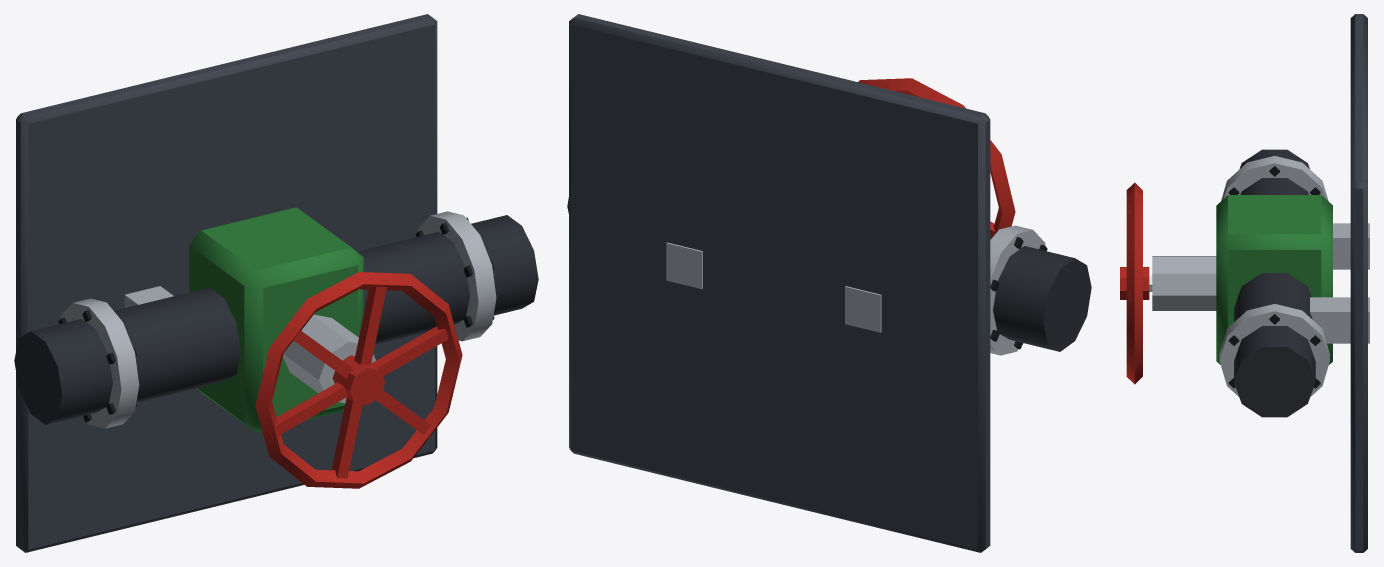
File: valve_gate_valve_wheel.glb
The picture shows the model from 3 angles, left to right: view 1: azimuth 30°, elevation 25°; view 2: azimuth 150°, elevation 25°; view 3: azimuth 270°, elevation 25°; orthographic projection. The views are drawn at different scales.
Visible parts, largest first — view 1: valve_gate_valve_wheel; view 2: valve_gate_valve_wheel; view 3: valve_gate_valve_wheel.
Part boxes in pixels (x1,y1,x2,y2): valve_gate_valve_wheel: [14, 14, 538, 552]; valve_gate_valve_wheel: [567, 14, 1091, 552]; valve_gate_valve_wheel: [1120, 14, 1369, 552].
Bounding box in the file's own units: 0.8 × 0.7 × 0.428.
